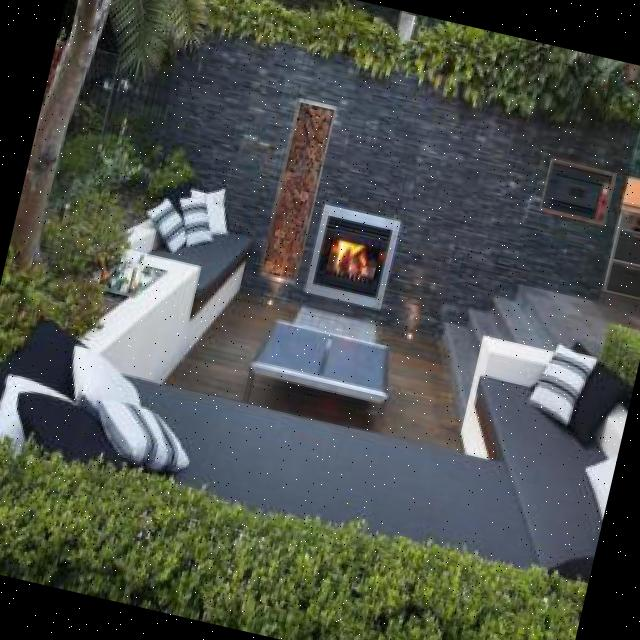fire: (324, 228, 382, 288)
